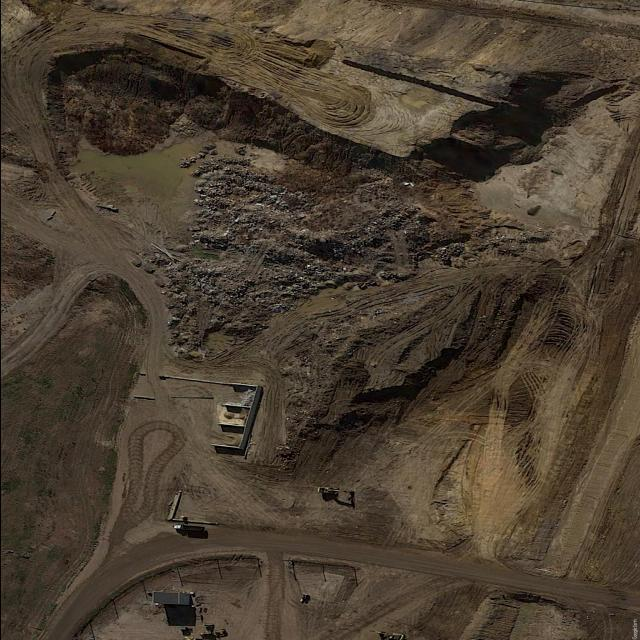dump_site: (61, 138, 425, 386)
